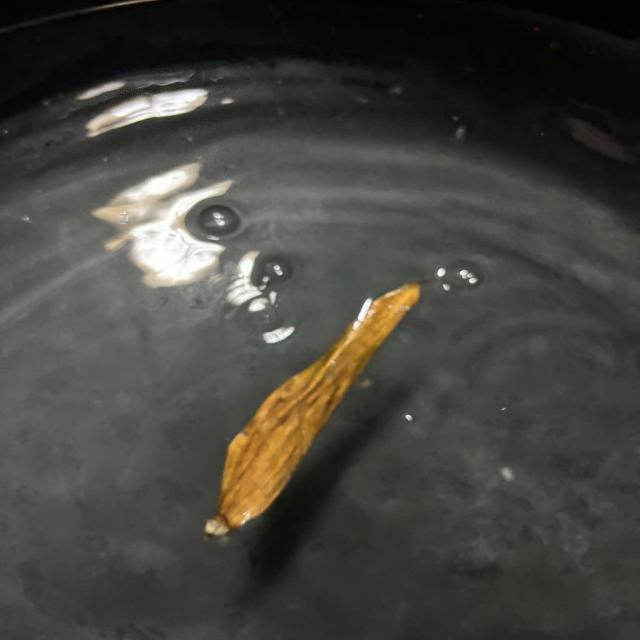Leaf: (148, 250, 470, 565)
